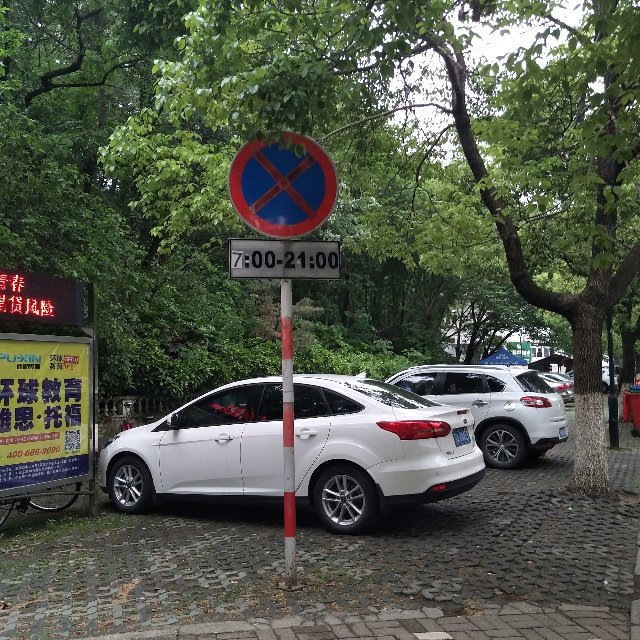stop: (228, 132, 338, 239)
